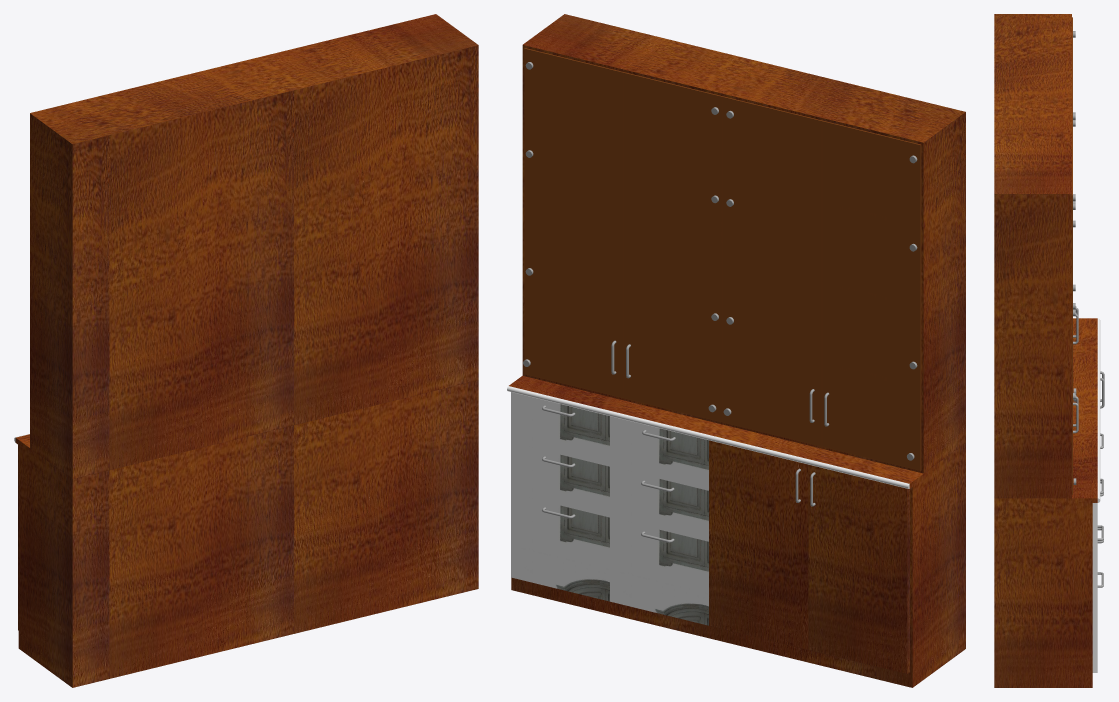
3 views of the same model, side by side, from view 1: azimuth 30°, elevation 25°; view 2: azimuth 150°, elevation 25°; view 3: azimuth 270°, elevation 25° (orthographic). The views are drawn at different scales.
Visible parts, largest first — view 1: mesh129_mesh129-geometry, mesh115_mesh115-geometry; view 2: mesh129_mesh129-geometry, mesh138_mesh138-geometry, mesh34_mesh34-geometry, mesh86_mesh86-geometry, mesh26_mesh26-geometry, mesh115_mesh115-geometry, mesh136_mesh136-geometry, mesh5_mesh5-geometry, mesh68_mesh68-geometry, mesh91_mesh91-geometry, mesh42_mesh42-geometry, mesh24_mesh24-geometry (+3 smaller); view 3: mesh129_mesh129-geometry, mesh115_mesh115-geometry, mesh144_mesh144-geometry, mesh91_mesh91-geometry, mesh34_mesh34-geometry, mesh24_mesh24-geometry, mesh15_mesh15-geometry.
Part boxes in pixels (bbox=[...]): mesh129_mesh129-geometry: bbox=[30, 14, 478, 479]; mesh115_mesh115-geometry: bbox=[15, 380, 478, 687]; mesh129_mesh129-geometry: bbox=[522, 14, 965, 473]; mesh138_mesh138-geometry: bbox=[821, 120, 921, 470]; mesh34_mesh34-geometry: bbox=[524, 48, 623, 398]; mesh86_mesh86-geometry: bbox=[722, 96, 821, 446]; mesh26_mesh26-geometry: bbox=[623, 72, 722, 422]; mesh115_mesh115-geometry: bbox=[509, 375, 965, 687]; mesh136_mesh136-geometry: bbox=[808, 464, 909, 673]; mesh5_mesh5-geometry: bbox=[709, 440, 808, 649]; mesh68_mesh68-geometry: bbox=[610, 517, 708, 625]; mesh91_mesh91-geometry: bbox=[511, 493, 609, 601]; mesh42_mesh42-geometry: bbox=[610, 467, 708, 541]; mesh24_mesh24-geometry: bbox=[511, 442, 609, 517]; mesh129_mesh129-geometry: bbox=[994, 14, 1071, 498]; mesh115_mesh115-geometry: bbox=[994, 318, 1097, 687]; mesh144_mesh144-geometry: bbox=[1097, 318, 1100, 502]; mesh91_mesh91-geometry: bbox=[1092, 595, 1097, 672]; mesh34_mesh34-geometry: bbox=[1072, 151, 1072, 494]; mesh24_mesh24-geometry: bbox=[1092, 548, 1097, 595]; mesh15_mesh15-geometry: bbox=[1092, 503, 1097, 548].
Bounding box in the file's own units: 0.6083 × 0.7779 × 0.1574.
